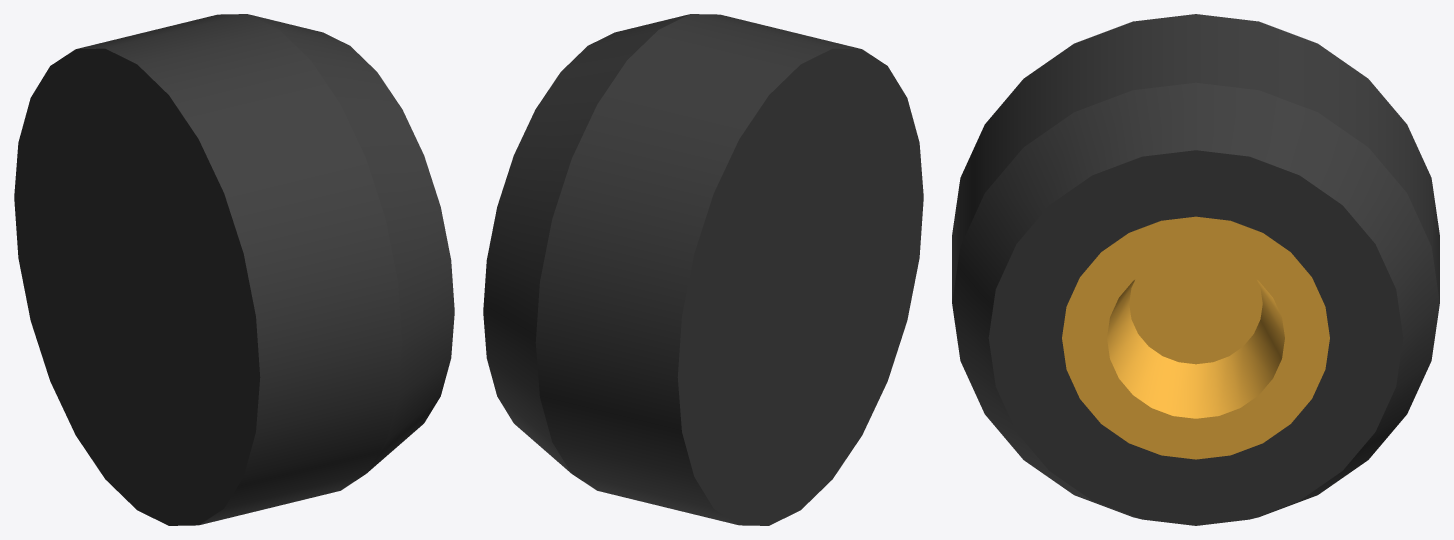
File: wheelTractorFront.obj
The picture shows the model from 3 angles, left to right: view 1: azimuth 30°, elevation 25°; view 2: azimuth 150°, elevation 25°; view 3: azimuth 270°, elevation 25°; orthographic projection.
Parts seen in each view (by area): view 1: wheelTractorFront; view 2: wheelTractorFront; view 3: wheelTractorFront.
Part boxes in pixels (box(x1,y1,x2,y2)): wheelTractorFront: box(14, 14, 454, 525); wheelTractorFront: box(483, 14, 923, 525); wheelTractorFront: box(952, 14, 1439, 525).
Bounding box in the file's own units: 0.2693 × 0.5386 × 0.5386.
